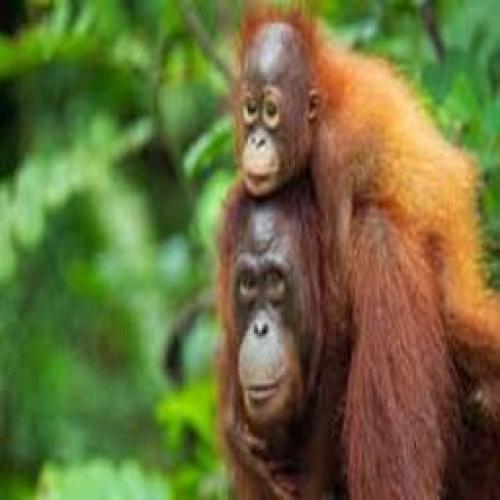orangutan-endangered: (230, 0, 500, 420), (217, 177, 500, 500)
